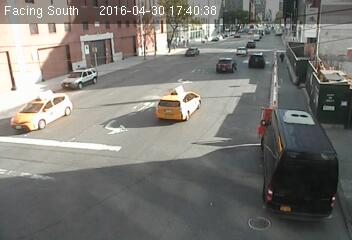neg: (247, 160, 286, 211), (290, 112, 306, 134)
pos: (279, 51, 289, 64)
